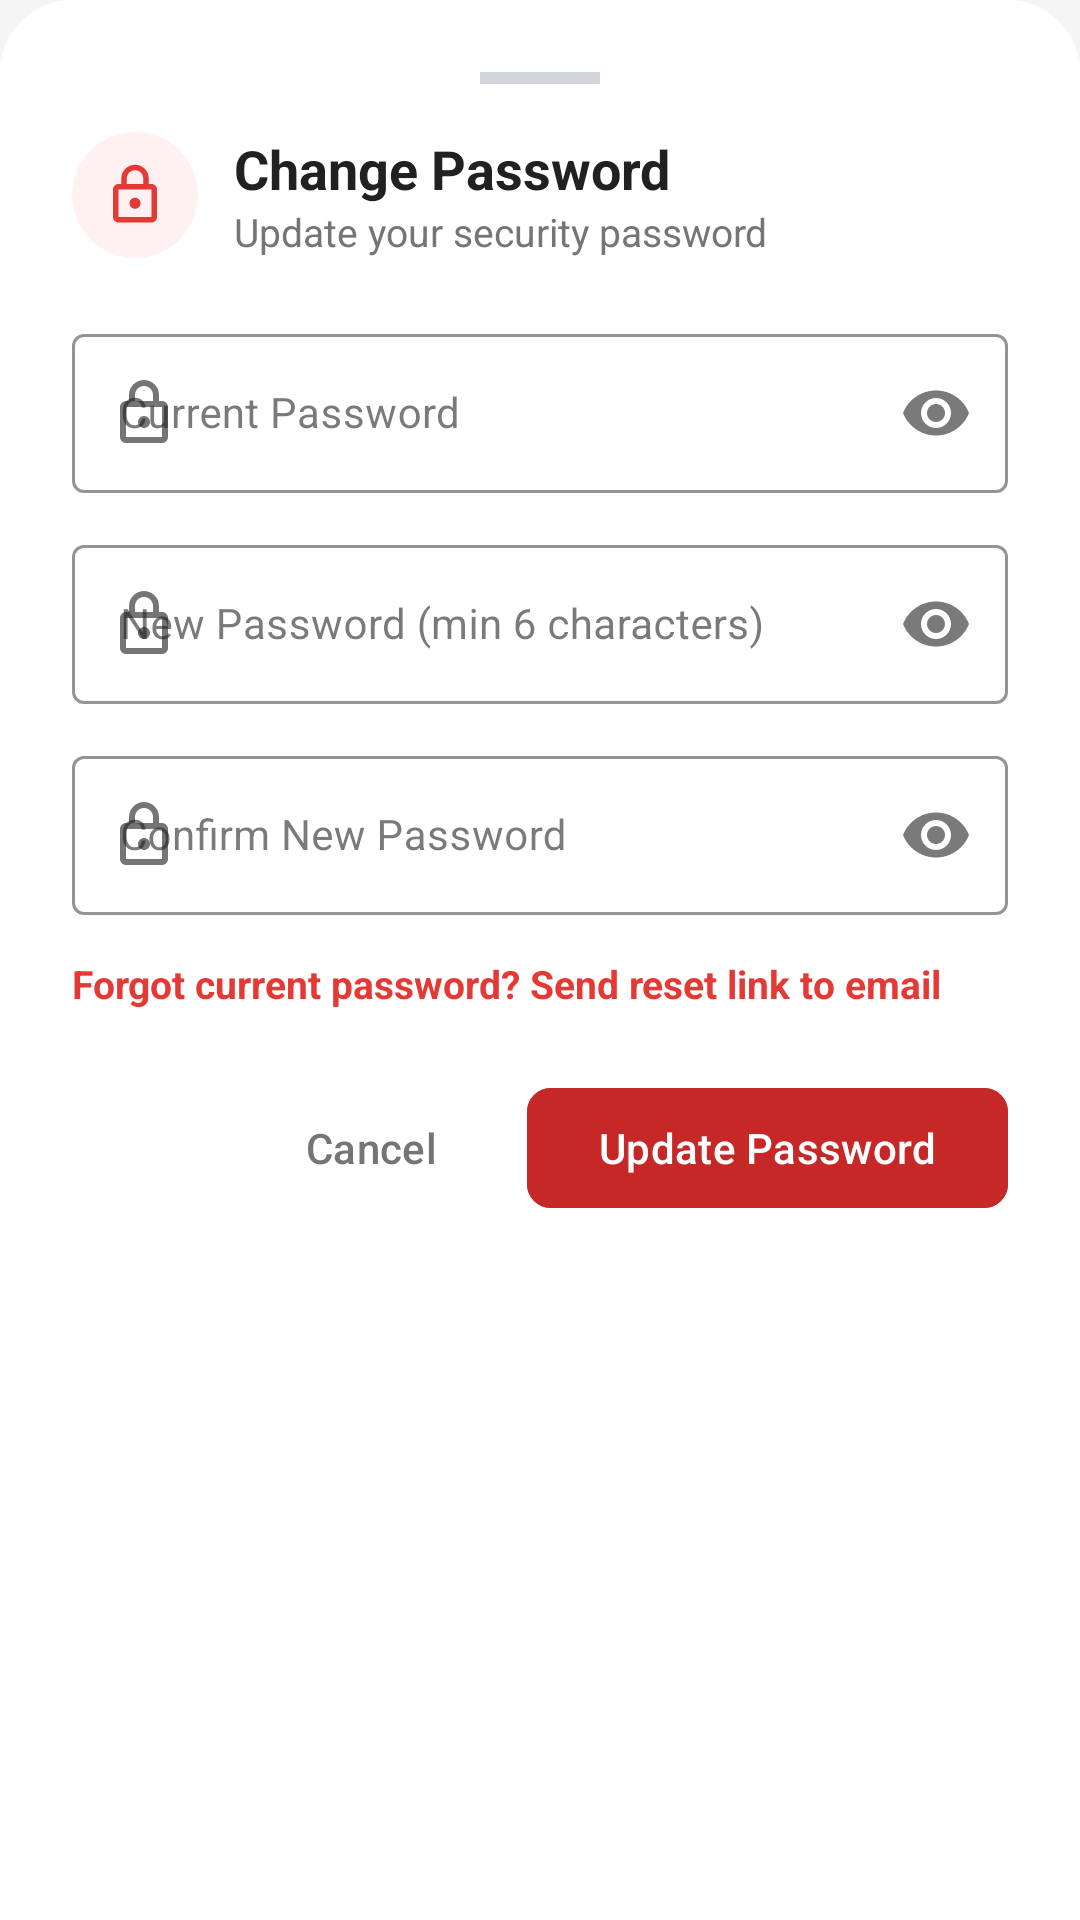

Screen size 1080px×1920px. Icon name, then its box in pixels as (x1, y1, x2, y2):
lock: (113, 164, 157, 223)
